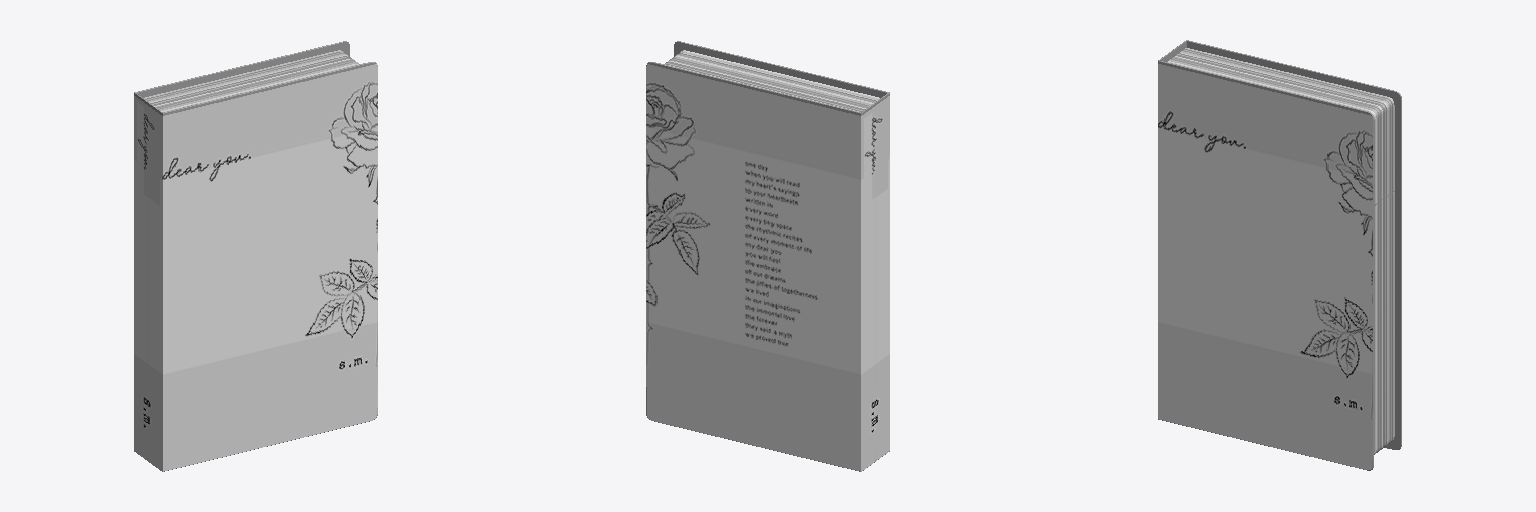
The picture shows the model from 3 angles: view 1: azimuth 30°, elevation 25°; view 2: azimuth 150°, elevation 25°; view 3: azimuth 330°, elevation 25°; orthographic projection.
Parts seen in each view (by area): view 1: Box004; view 2: Box004; view 3: Box004.
Boxes of the visible parts, box(x1,y1,x2,y2) form: Box004: box(134, 41, 377, 471); Box004: box(646, 41, 889, 471); Box004: box(1158, 40, 1401, 470).
Bounding box in the file's own units: 10.8 × 17.19 × 2.49.
Materials: 1 (1 with a texture image).